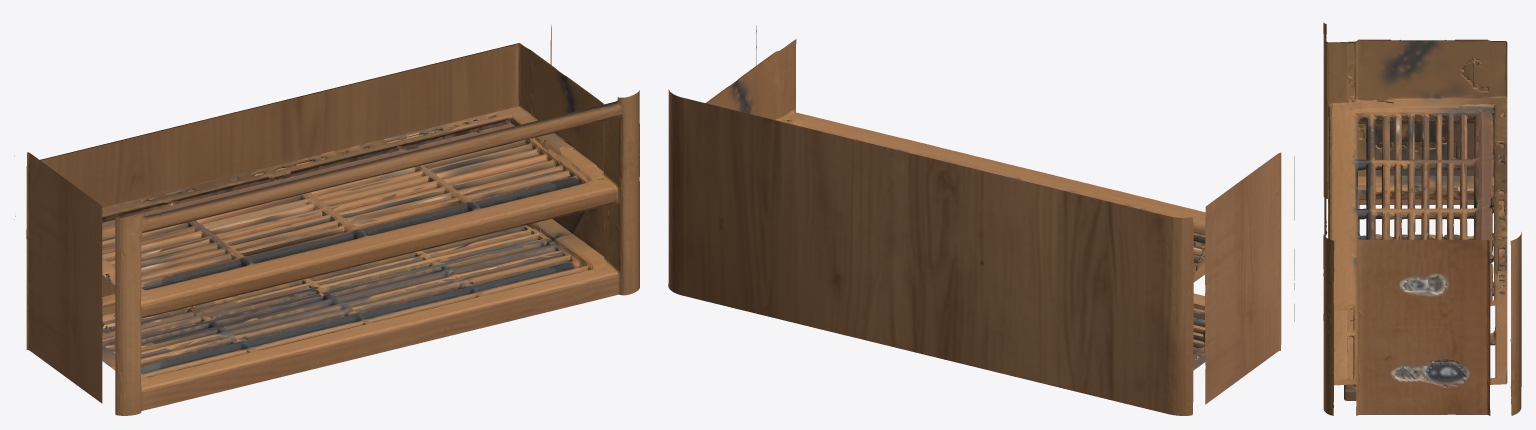
Rendered from door_bottom.glb.
3 renders of one model, left to right at view 1: azimuth 30°, elevation 25°; view 2: azimuth 150°, elevation 25°; view 3: azimuth 270°, elevation 25°, orthographic. The views are drawn at different scales.
Visible parts, largest first — view 1: source_surface_0; view 2: source_surface_0; view 3: source_surface_0.
Boxes of the visible parts, x1=… form: source_surface_0: x1=14, y1=25, x2=639, y2=415; source_surface_0: x1=668, y1=25, x2=1294, y2=415; source_surface_0: x1=1323, y1=22, x2=1521, y2=415.
Bounding box in the file's own units: 0.896 × 0.3229 × 0.3308.
1 material, 1 textured.
